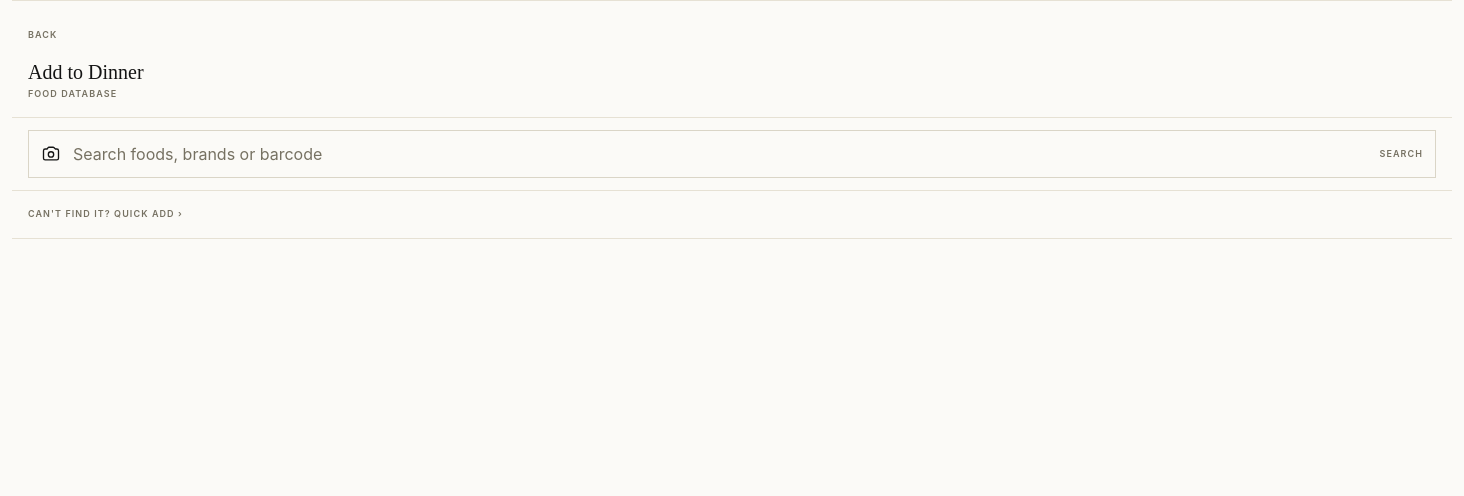
Test: FoodPicker › rounds search preview and selected-food macros to stable display precision
Type "granola" into the search field at (720, 154), box [73, 142, 1368, 166]
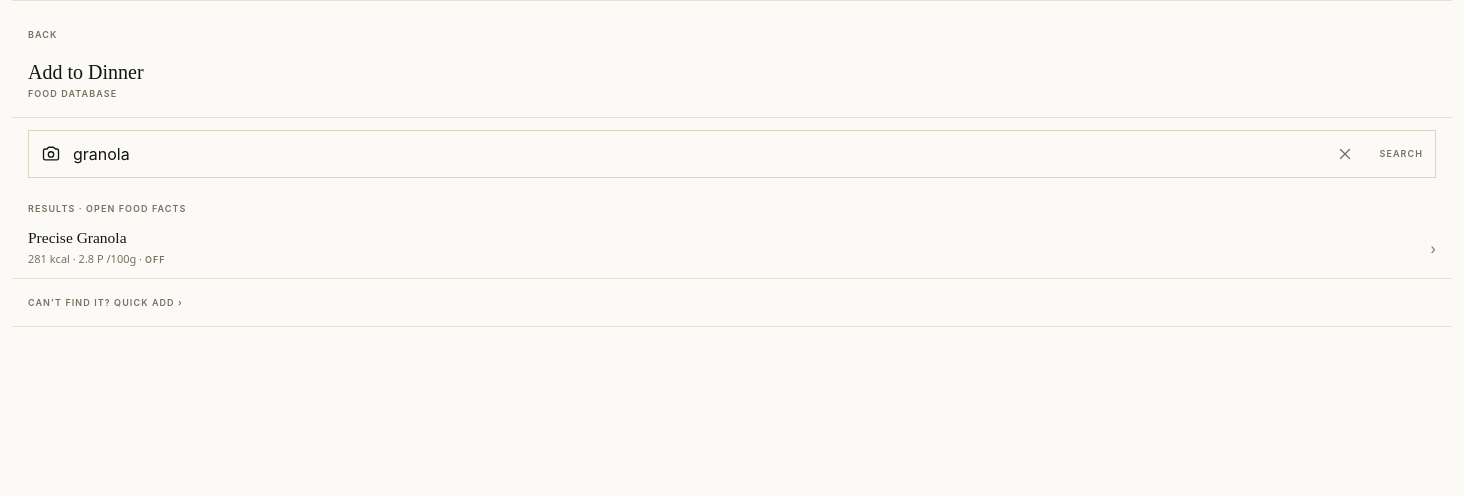
Now the text "281 kcal · 2.8 P /100g · OFF" is shown, box [28, 251, 166, 268]
Click the button "Precise Granola 281 kcal · 2.8 P /100g · OFF ›" at (77, 238), box [12, 219, 1452, 278]
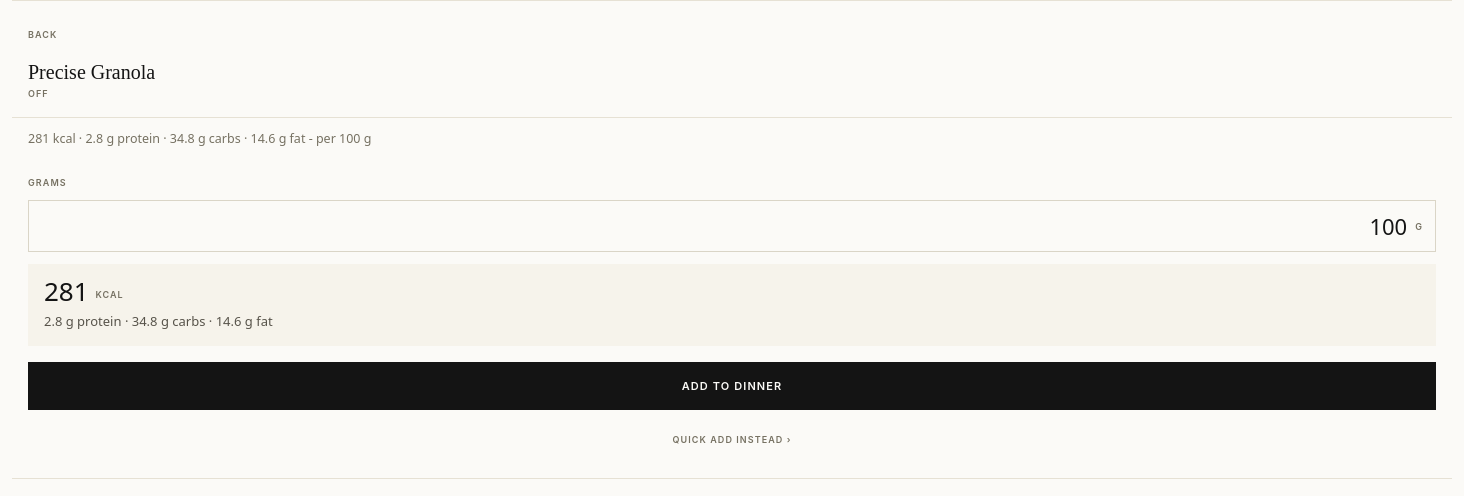
Now the text "281 kcal · 2.8 g protein · 34.8 g carbs · 14.6 g fat - per 100 g" is shown, box [28, 130, 372, 146]
Now the text "2.8 g protein · 34.8 g carbs · 14.6 g fat" is shown 2 times, box [28, 130, 372, 146]; [44, 312, 273, 330]
